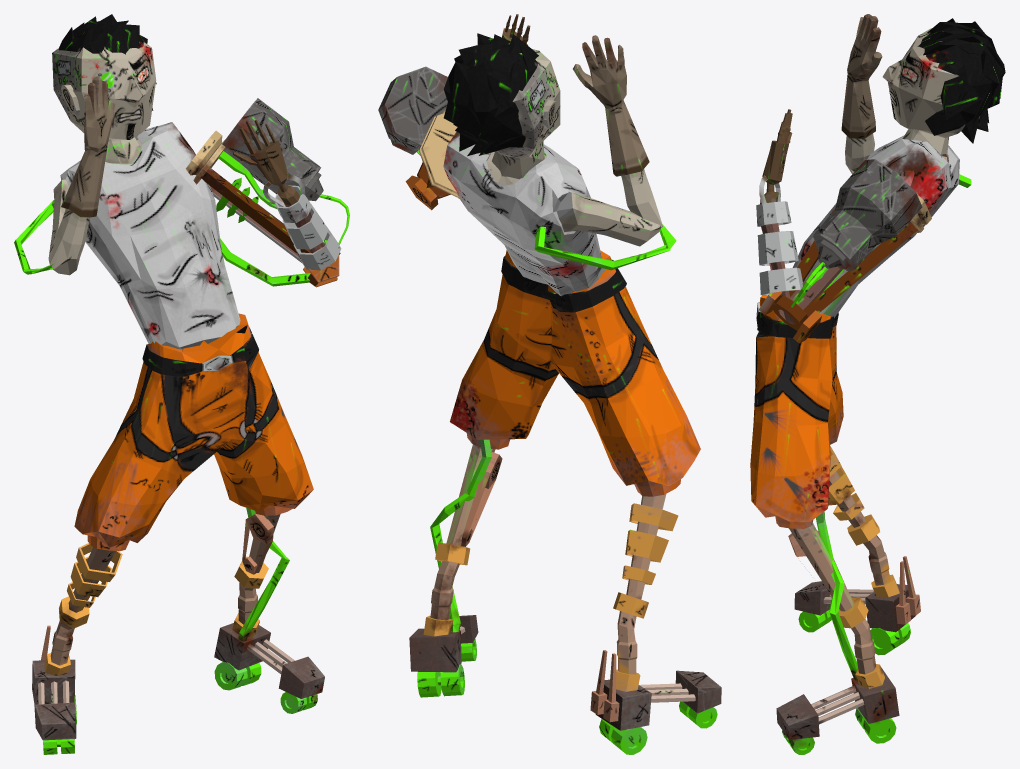
The model's file is CyborgFINALAnimation_000017.obj.
3 renders of one model, left to right at view 1: azimuth 30°, elevation 25°; view 2: azimuth 150°, elevation 25°; view 3: azimuth 270°, elevation 25°, orthographic. The views are drawn at different scales.
Visible parts, largest first — view 1: CyborgMesh_Cube.002; view 2: CyborgMesh_Cube.002; view 3: CyborgMesh_Cube.002.
Boxes of the visible parts, <box> form: CyborgMesh_Cube.002: <box>14,14,349,754</box>; CyborgMesh_Cube.002: <box>378,14,721,754</box>; CyborgMesh_Cube.002: <box>750,14,1005,754</box>.
Bounding box in the file's own units: 4.32 × 9.01 × 3.12.
